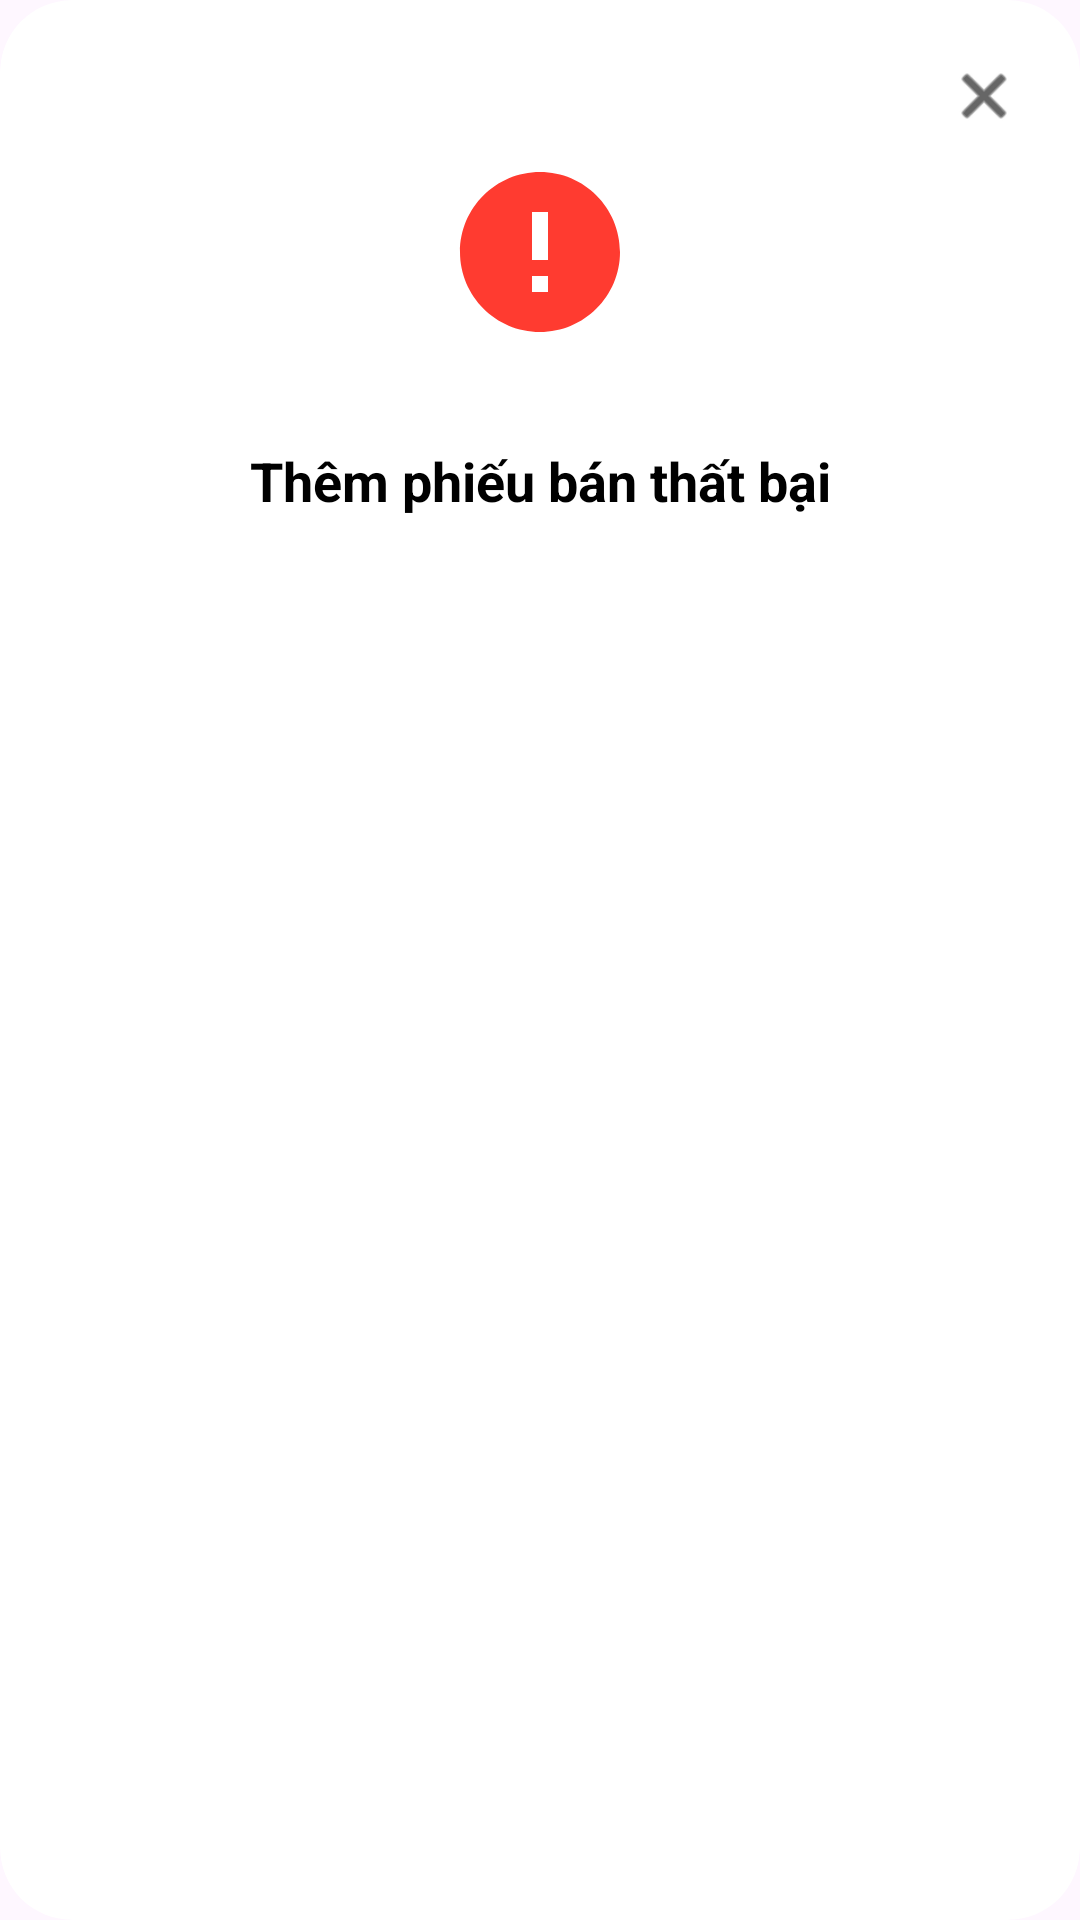

Point at icon controls on the screen. Image size 1080w x 1920h, points as (x,y).
close clear cancel: (984,96)
error: (540,252)
